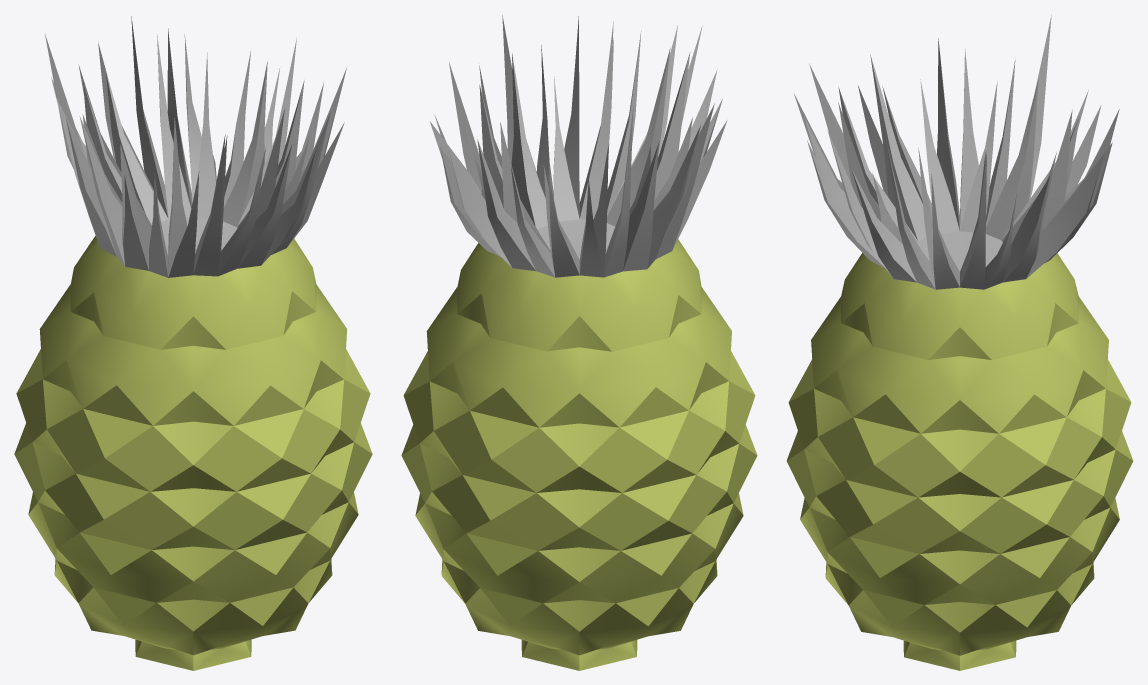
The model's file is Pineapple.fbx.
3 renders of one model, left to right at view 1: azimuth 30°, elevation 25°; view 2: azimuth 150°, elevation 25°; view 3: azimuth 270°, elevation 25°, orthographic. The views are drawn at different scales.
Visible parts, largest first — view 1: Pineapple; view 2: Pineapple; view 3: Pineapple.
Part boxes in pixels (box(x1,y1,x2,y2)): Pineapple: box(14, 16, 372, 670); Pineapple: box(401, 15, 757, 670); Pineapple: box(786, 15, 1133, 670).
Bounding box in the file's own units: 2040 × 3986 × 2132.
